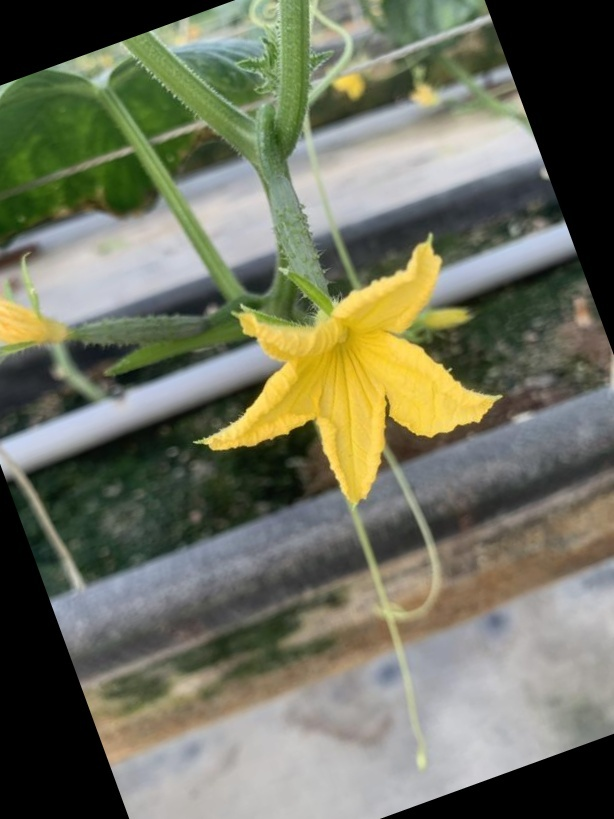flowering: (181, 169, 497, 505)
